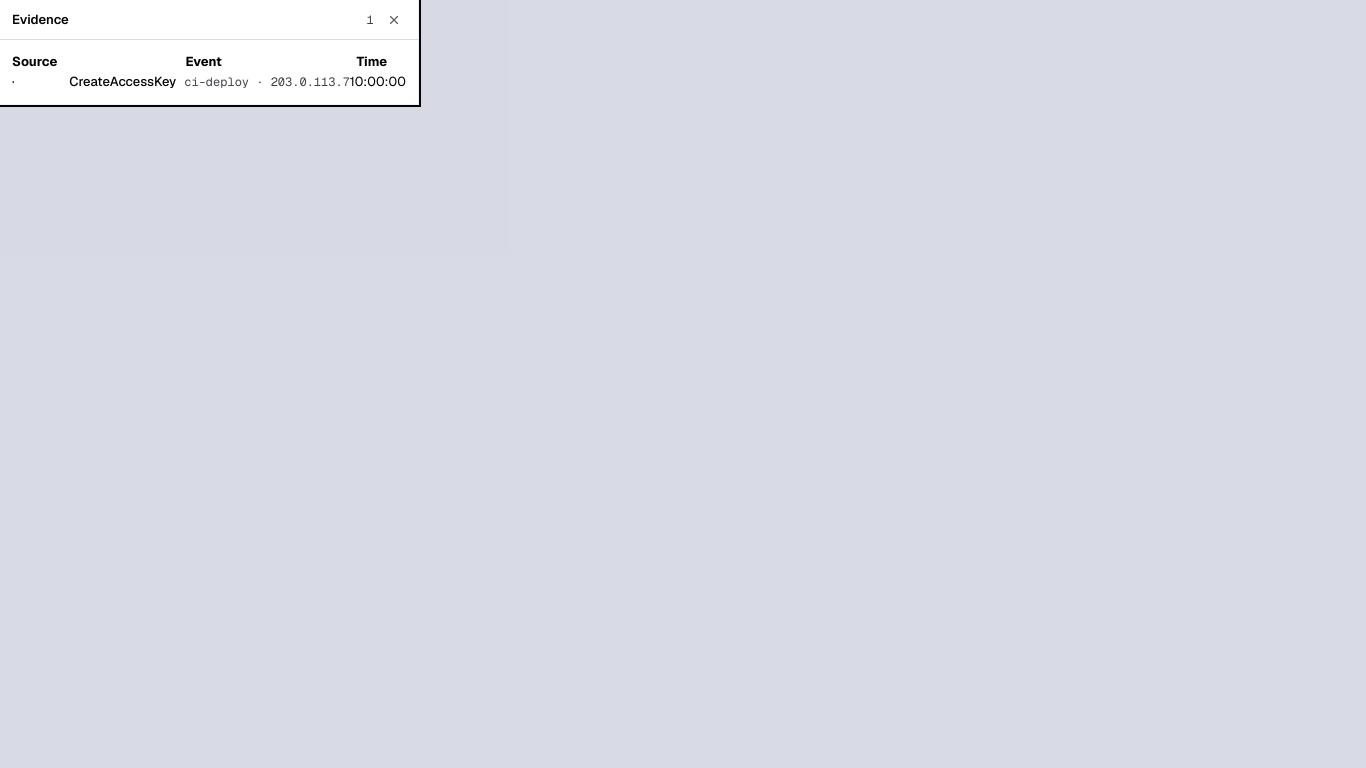
Test case: citations › opens a cited event on its fields, and fetches its raw record on demand
Click the text "CreateAccessKey": (123, 82) left=69, top=73, right=176, bottom=90
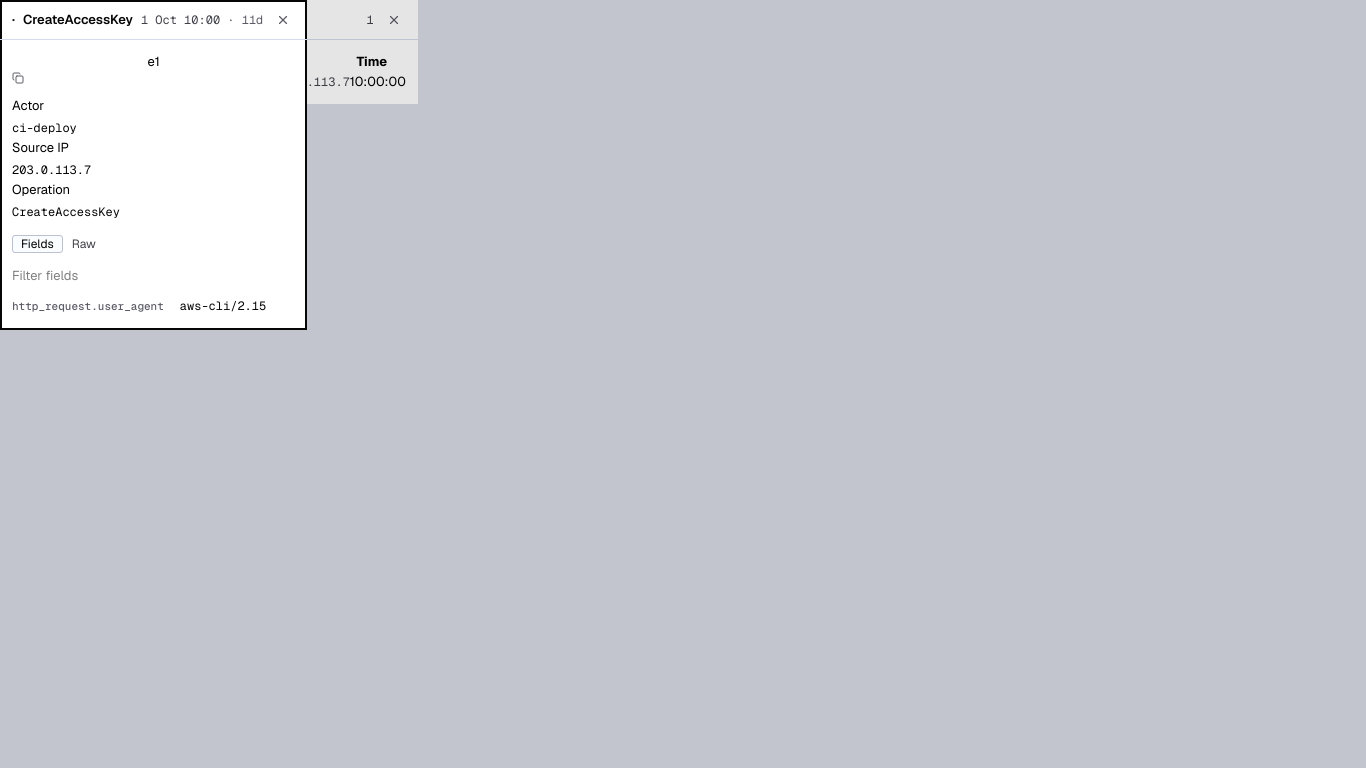
Check: the text "\"sourceIPAddress\"" is not shown
Check: the button named "Copy event id" reads "e1", box left=12, top=52, right=295, bottom=84
Check: the text "http_request.user_agent" is shown, box left=12, top=299, right=164, bottom=313
Click the radio button labelled "Raw": (84, 244) left=63, top=235, right=105, bottom=253
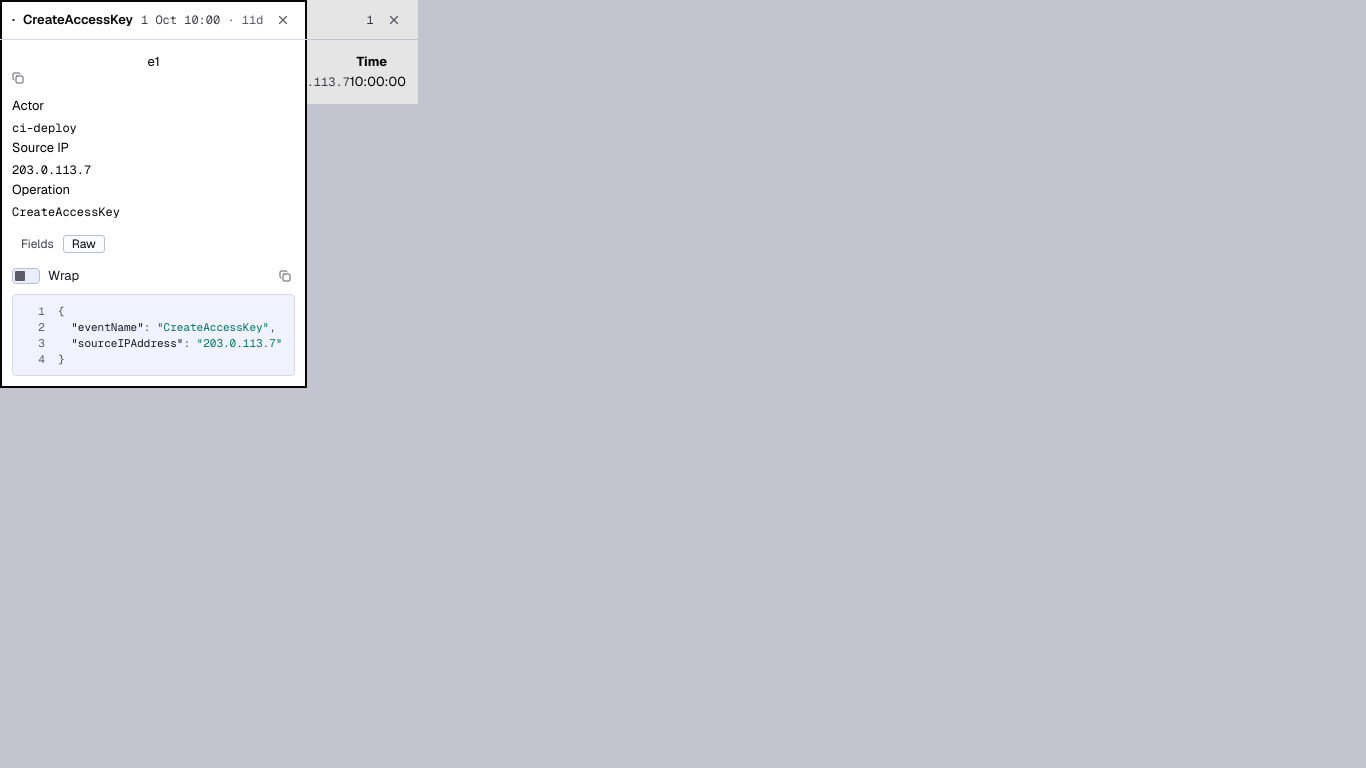
Check: the text "\"sourceIPAddress\"" is shown, box left=71, top=336, right=183, bottom=350
